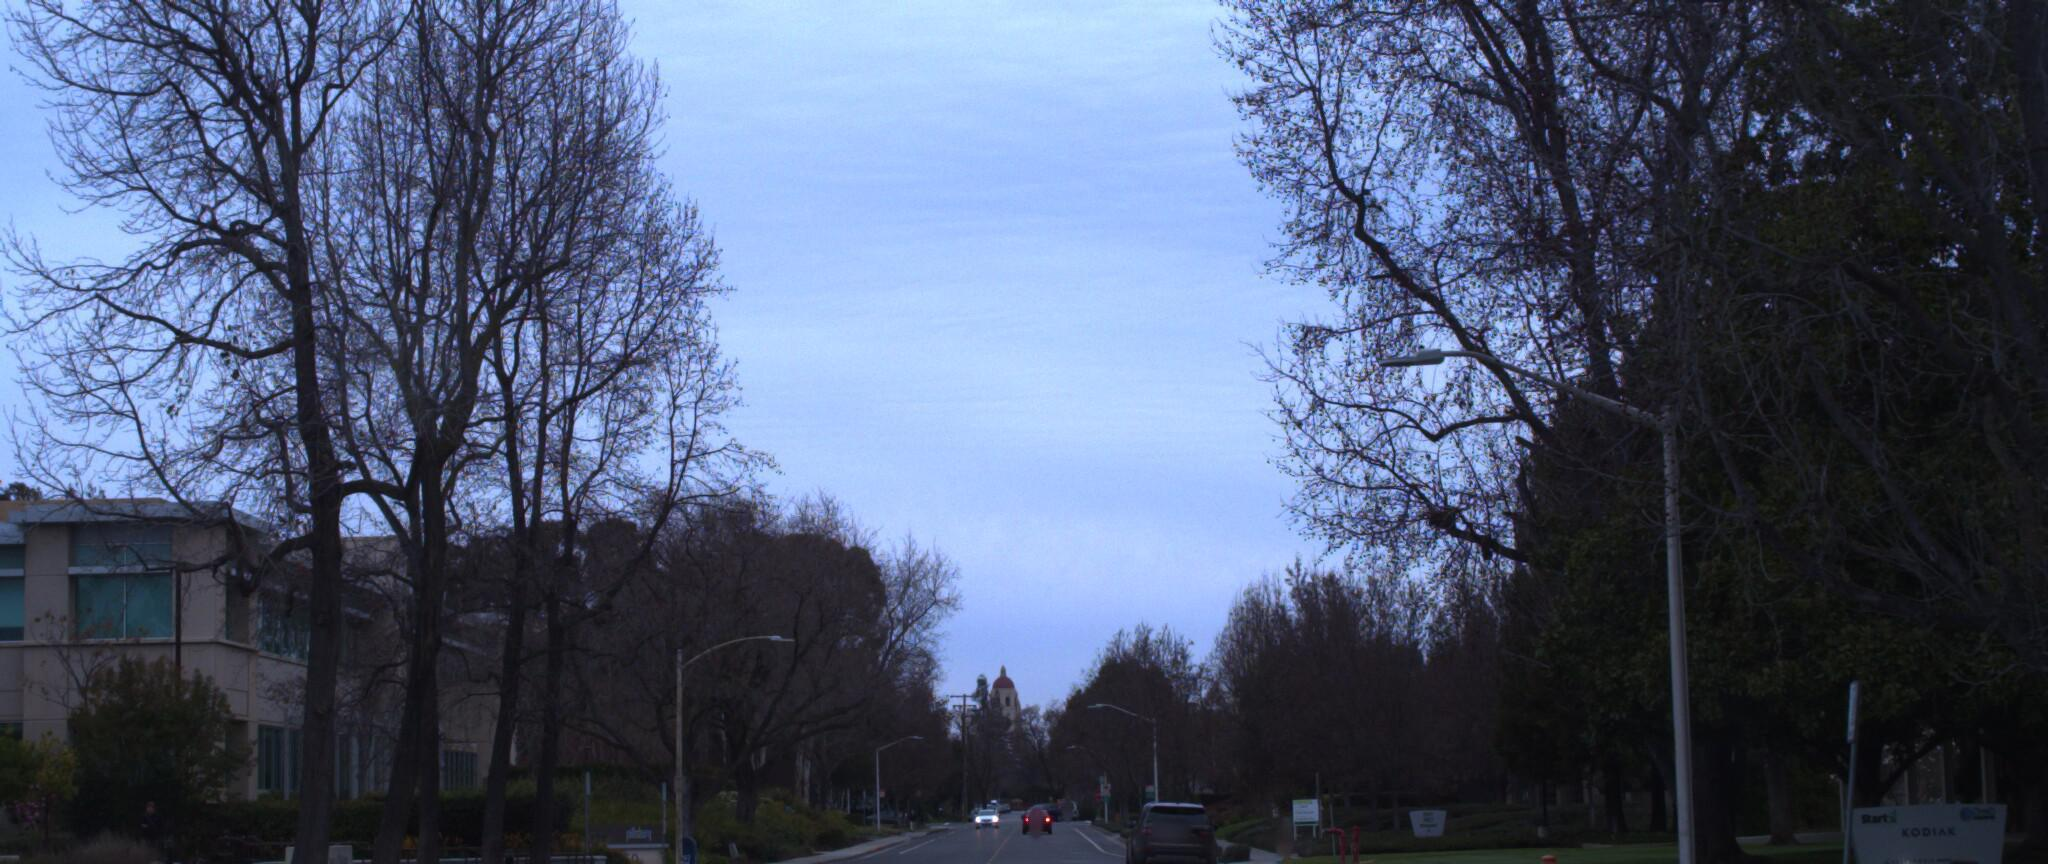car: (1108, 794, 1204, 864)
